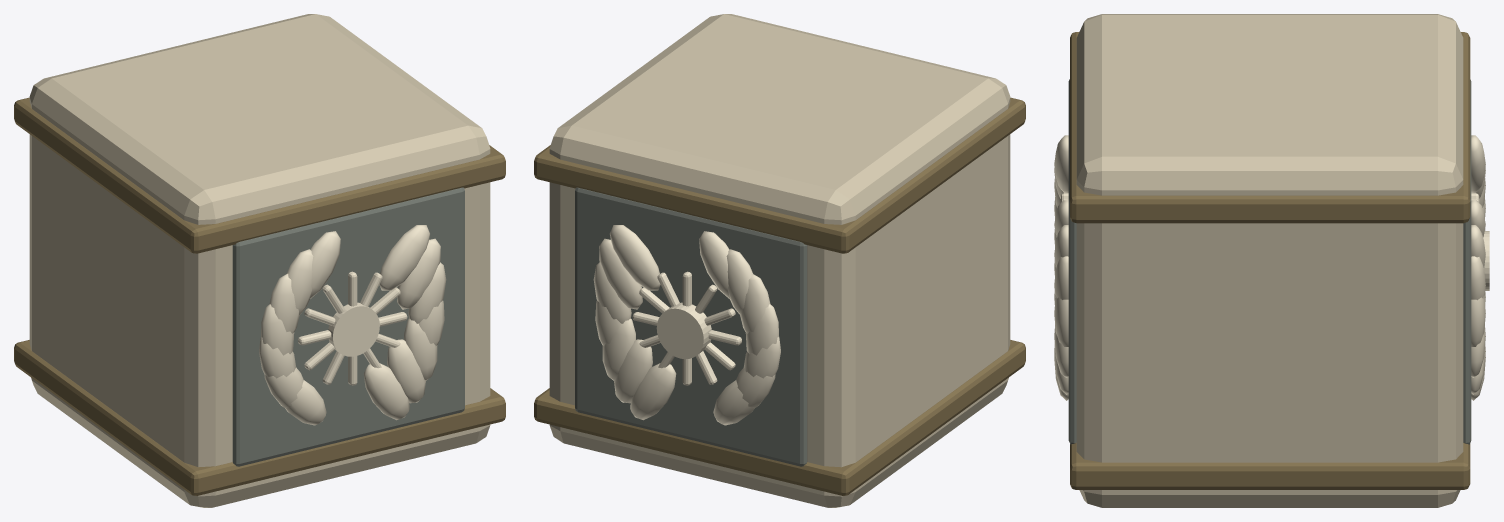
File: weight.glb
The picture shows the model from 3 angles, left to right: view 1: azimuth 30°, elevation 25°; view 2: azimuth 150°, elevation 25°; view 3: azimuth 270°, elevation 25°; orthographic projection. The views are drawn at different scales.
Visible parts, largest first — view 1: Sacred stone weight.001, Weight recessed field.002, Bronze weight band.002, Carved laurel leaf.196; view 2: Sacred stone weight.001, Weight recessed field.002, Bronze weight band.002, Carved laurel leaf.196; view 3: Sacred stone weight.001, Bronze weight band.002, Carved laurel leaf.196, Weight recessed field.002.
Boxes of the visible parts, bbox=[...] form: Sacred stone weight.001: bbox=[29, 14, 490, 507]; Weight recessed field.002: bbox=[232, 187, 464, 466]; Bronze weight band.002: bbox=[14, 97, 505, 495]; Carved laurel leaf.196: bbox=[259, 225, 446, 425]; Sacred stone weight.001: bbox=[549, 14, 1010, 507]; Weight recessed field.002: bbox=[575, 187, 807, 466]; Bronze weight band.002: bbox=[534, 97, 1025, 495]; Carved laurel leaf.196: bbox=[593, 225, 780, 425]; Sacred stone weight.001: bbox=[1076, 14, 1463, 507]; Bronze weight band.002: bbox=[1070, 32, 1470, 489]; Carved laurel leaf.196: bbox=[1054, 135, 1489, 400]; Weight recessed field.002: bbox=[1068, 79, 1471, 444].
Bounding box in the file's own units: 0.87 × 0.84 × 0.9465.
